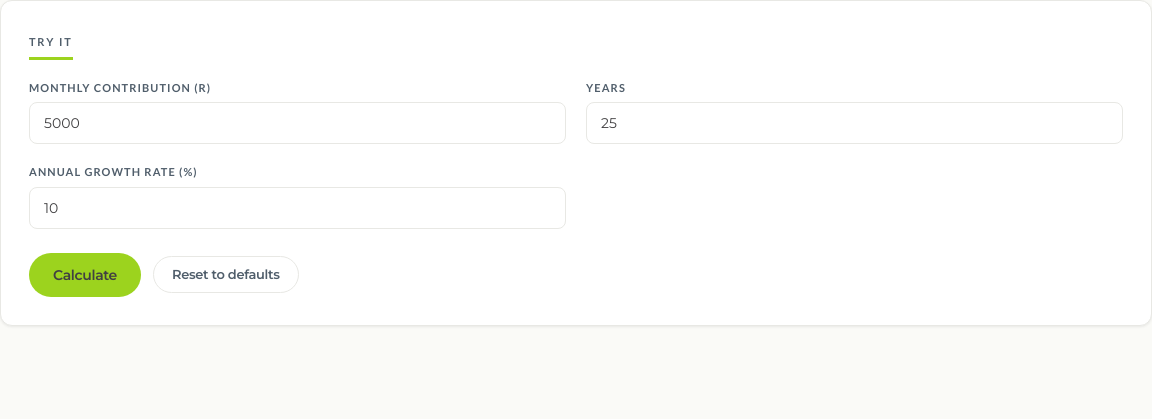
Test: InteractiveCalculator › shows a friendly error when the API rejects
The image size is (1152, 419).
Click the button "Calculate".
click(85, 274)  # box [29,252,141,296]
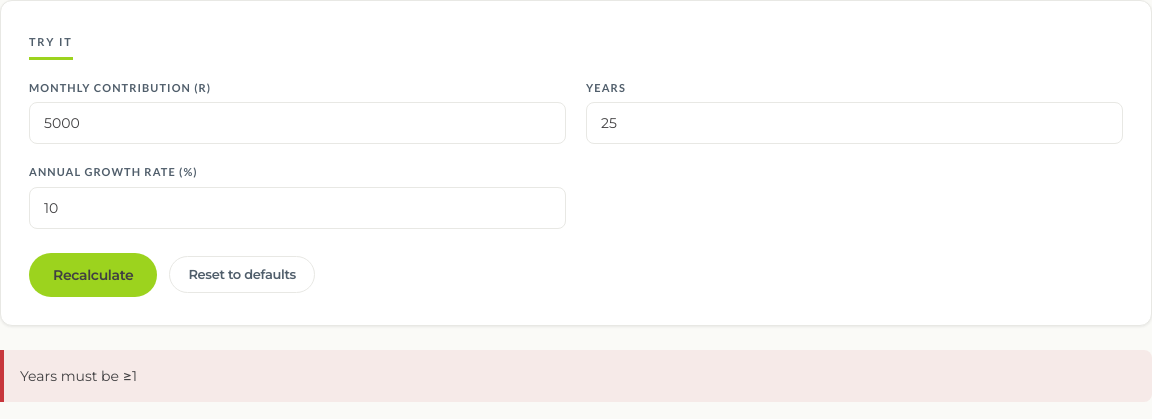
Expected: the text "Years must be ≥1" is shown, [20,366,137,384]
